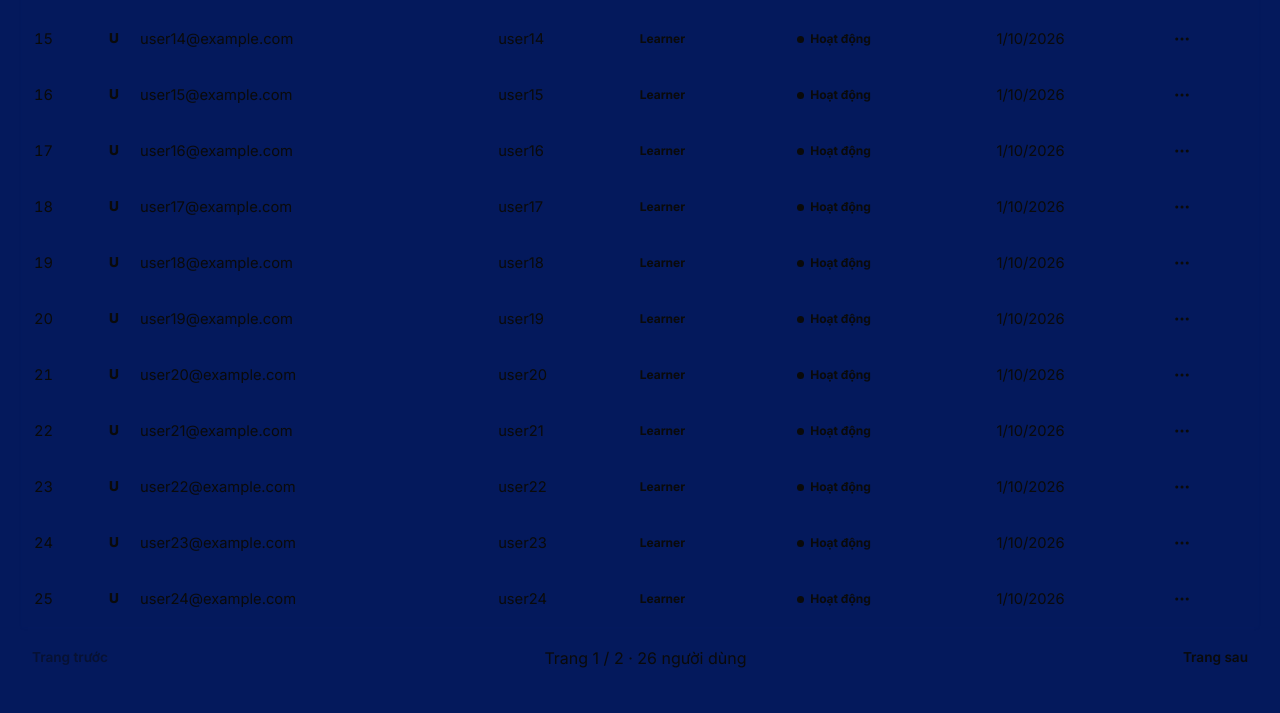
Test: UsersPage › paginates the unpaginated API response by 25 rows
(page scrolled)
Expected: the text "user24@example.com" is shown, [140,590,296,608]
Expected: the text "user25@example.com" is not shown
Click the button "Trang sau" at (1215, 658), box [1173,643,1258,673]
(page scrolled)
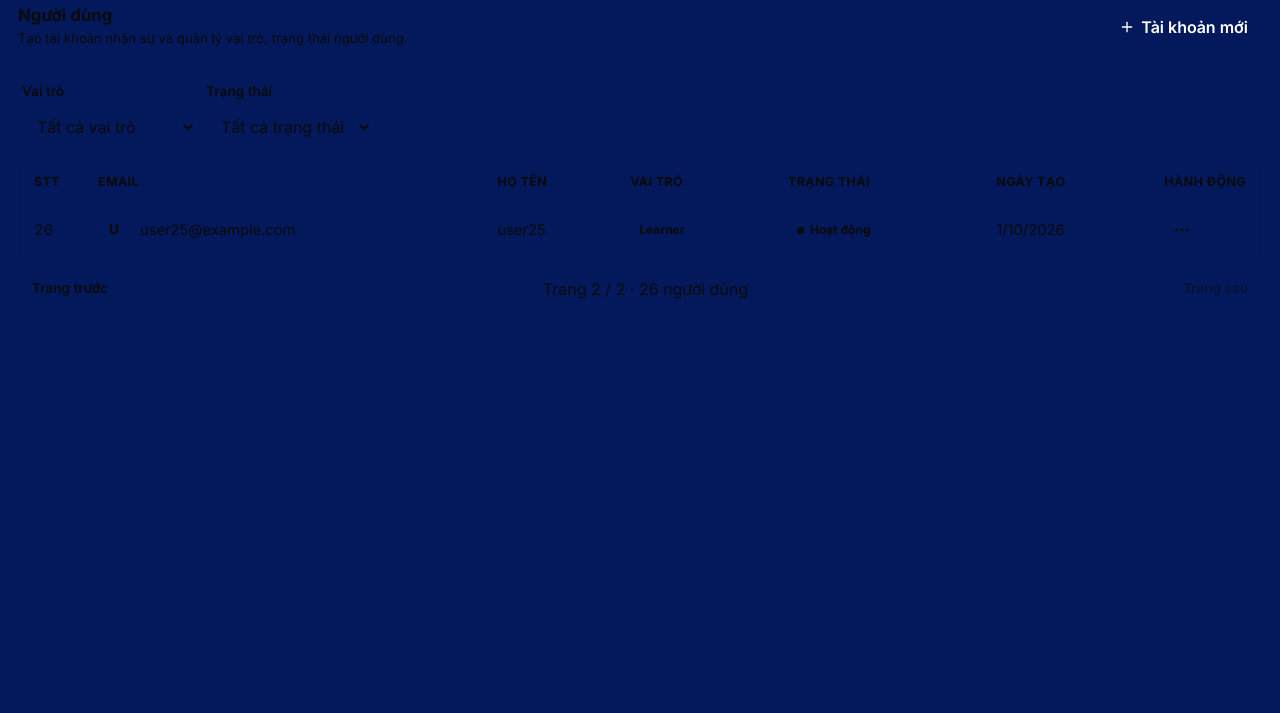
Now the text "user25@example.com" is shown, box [140,221,296,239]
Now the text "Trang 2 / 2 · 26 người dùng" is shown, box [543,277,748,301]
